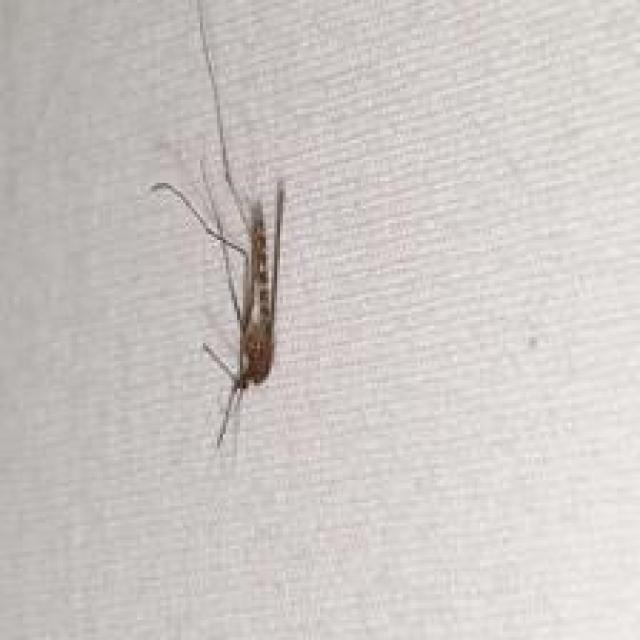Culex: (147, 0, 287, 451)
